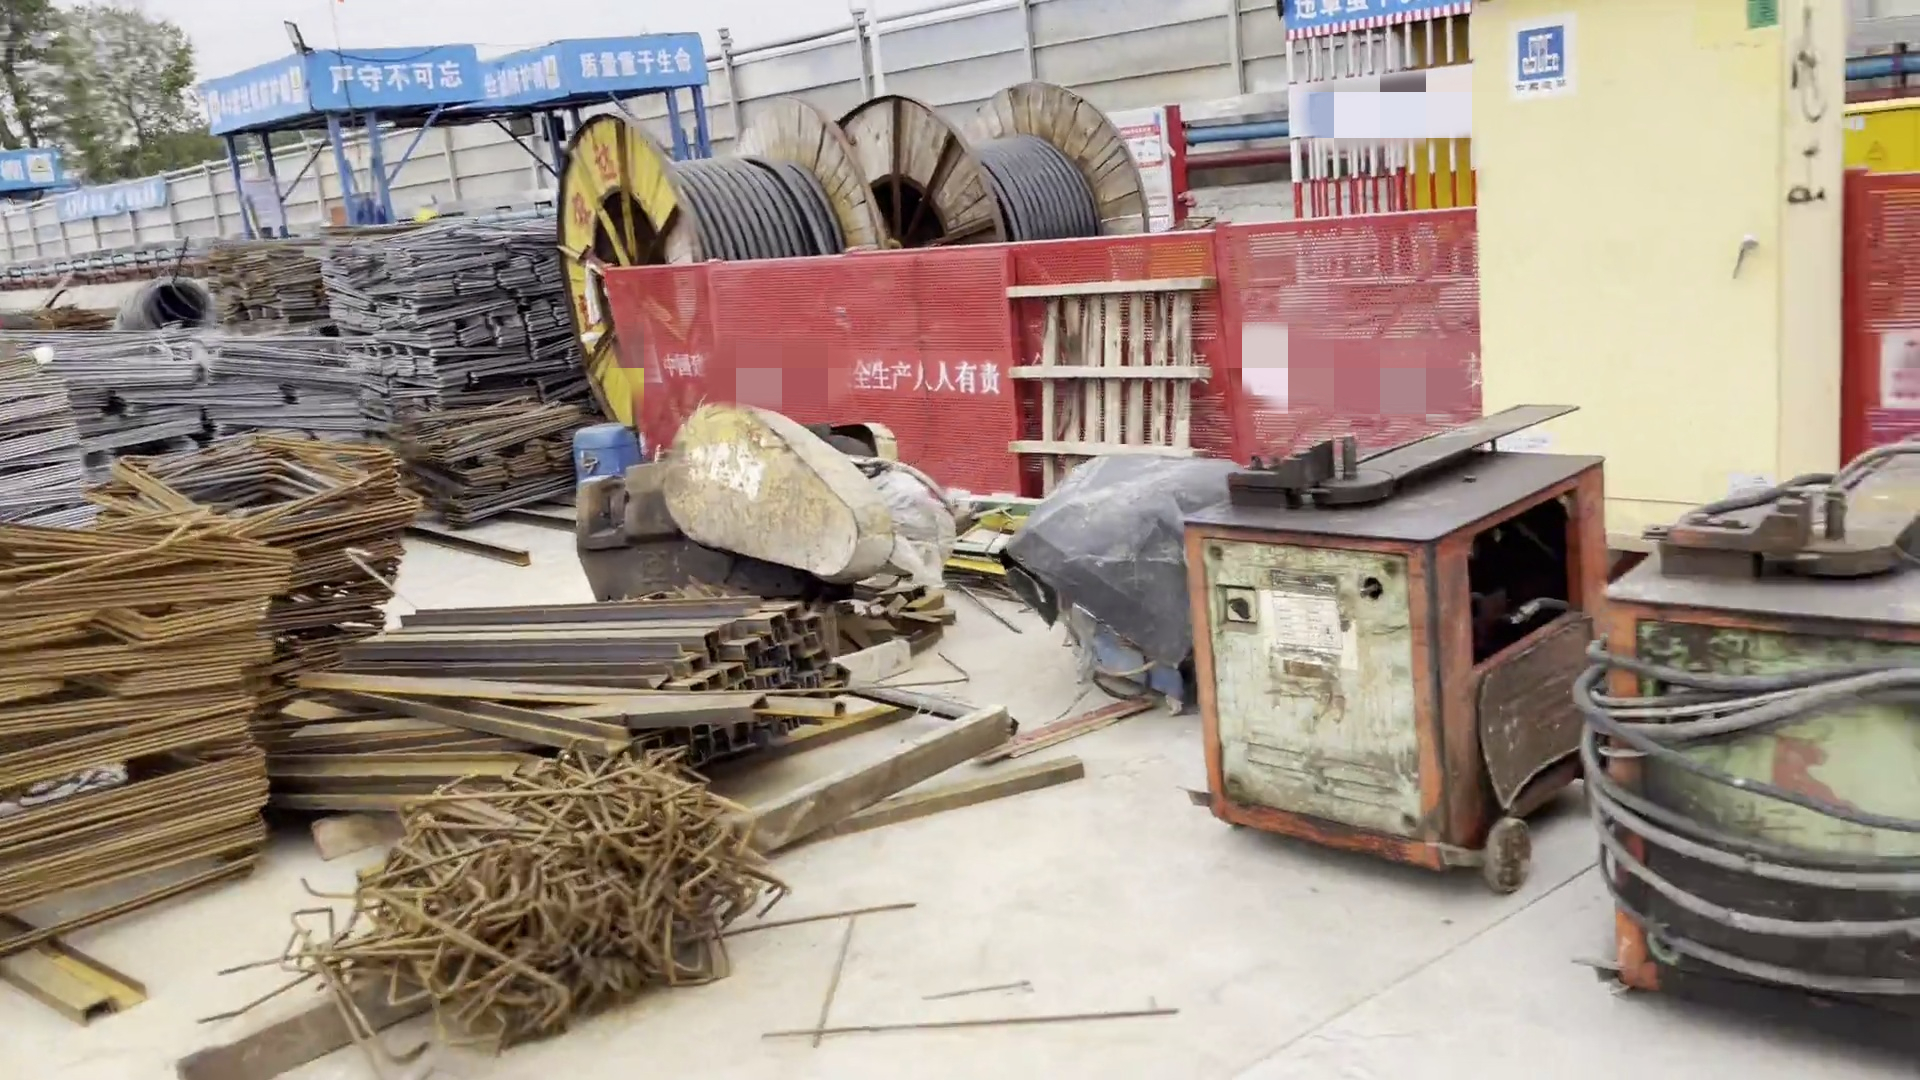cutter: (1164, 372, 1590, 920), (1568, 396, 1920, 1048)
ebox: (1453, 1, 1865, 512), (1390, 45, 1480, 222), (1844, 88, 1920, 183)
fence: (607, 208, 1484, 472), (1842, 175, 1917, 456)
slogan: (167, 24, 744, 145), (1258, 1, 1473, 59), (46, 173, 185, 225), (1, 127, 71, 212)
